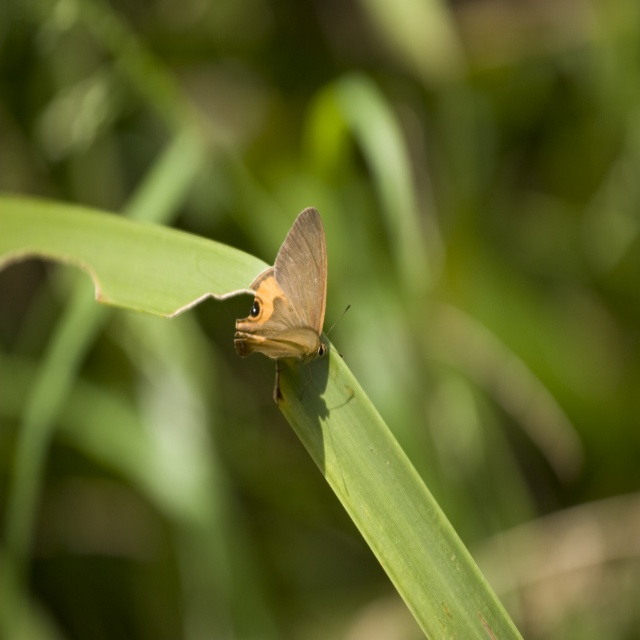Butterfly: (223, 206, 337, 391)
